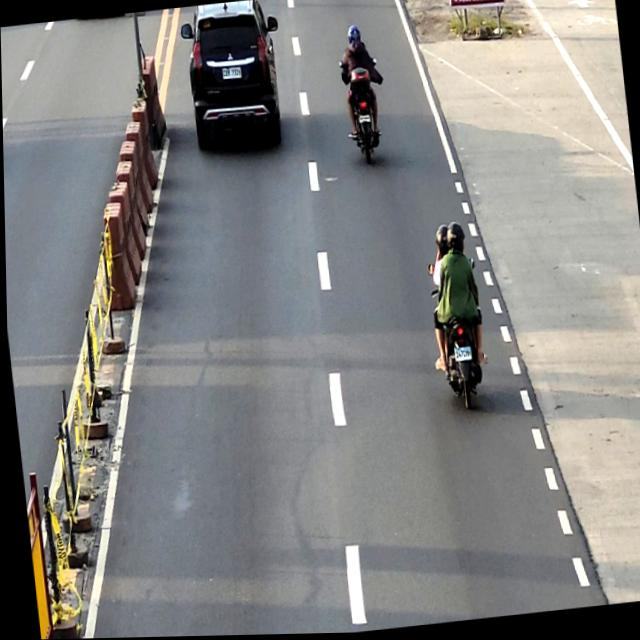Car: (177, 0, 292, 156)
License-Plate: (221, 66, 241, 81), (452, 348, 470, 363), (358, 116, 370, 125)
Motorcycle: (424, 260, 488, 416), (338, 55, 387, 168)
